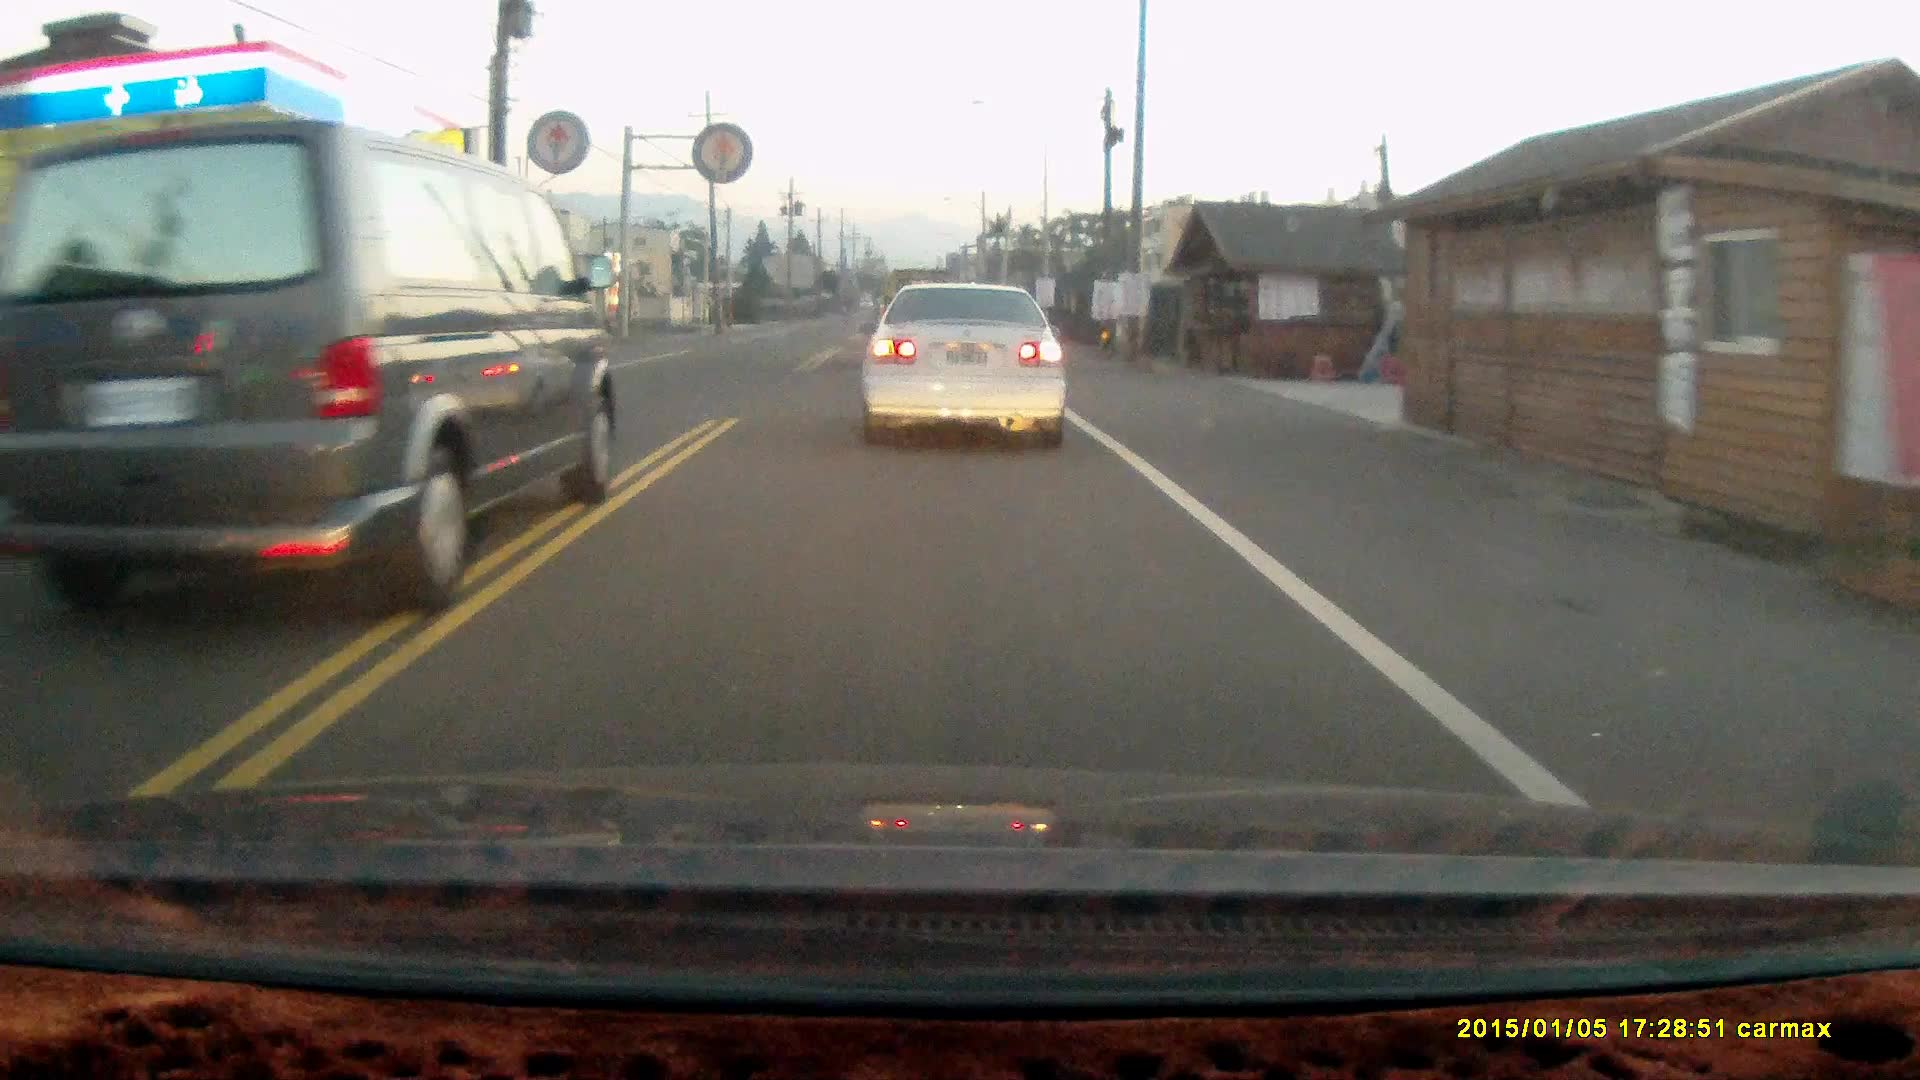vehicle: (3, 125, 611, 617), (862, 280, 1069, 455), (18, 202, 157, 365)
